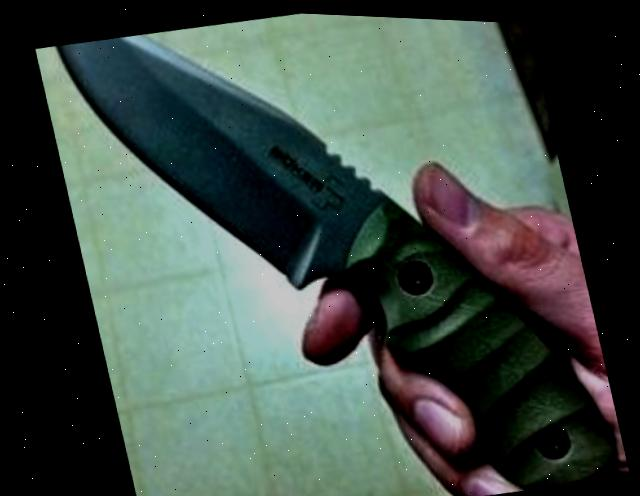pocket-knife: (35, 1, 621, 496)
